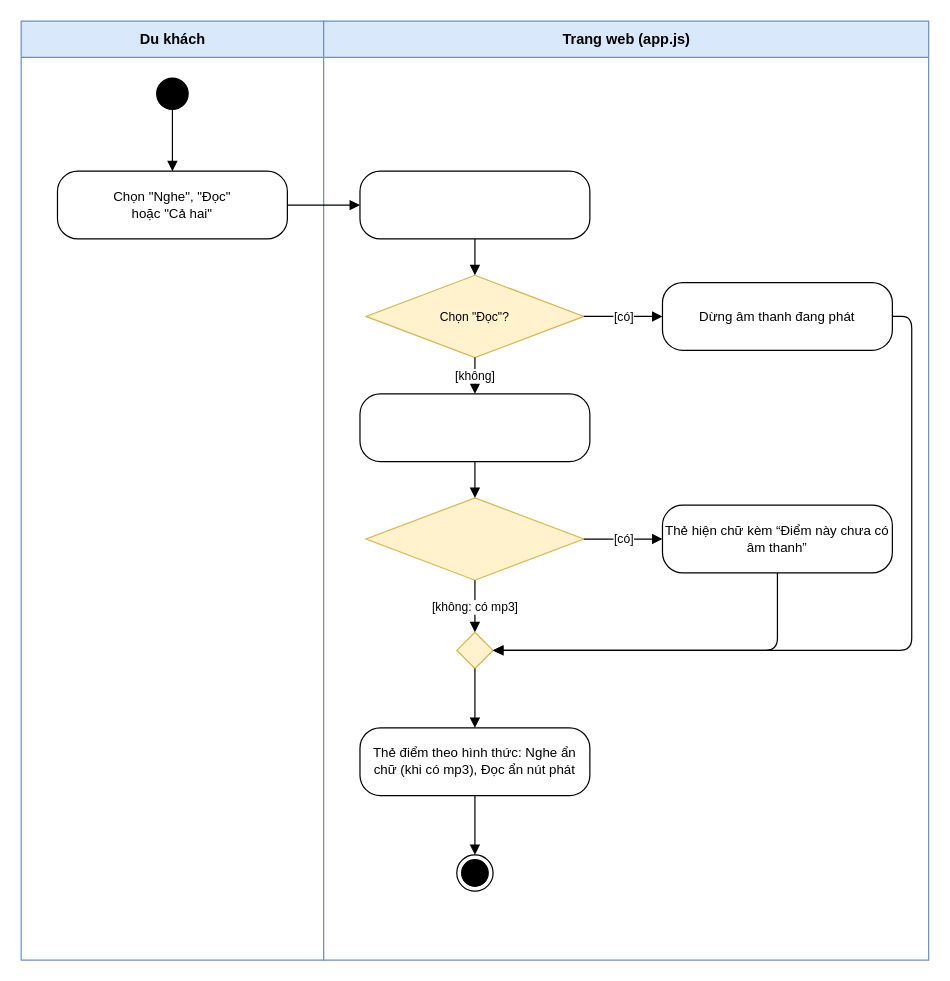
Some shapes in this 950 by 981 pixel diagram are drawn without their labels. Each missing label, with the centre of its shape:
Ghi hình thức mới, xóa thông báo; đổi nút và thẻ điểm ngay: the point at 474,204
Xét điểm đang mở (nếu có): the point at 474,427
Điểm chưa có file mp3, hoặc file lỗi?: the point at 474,538
